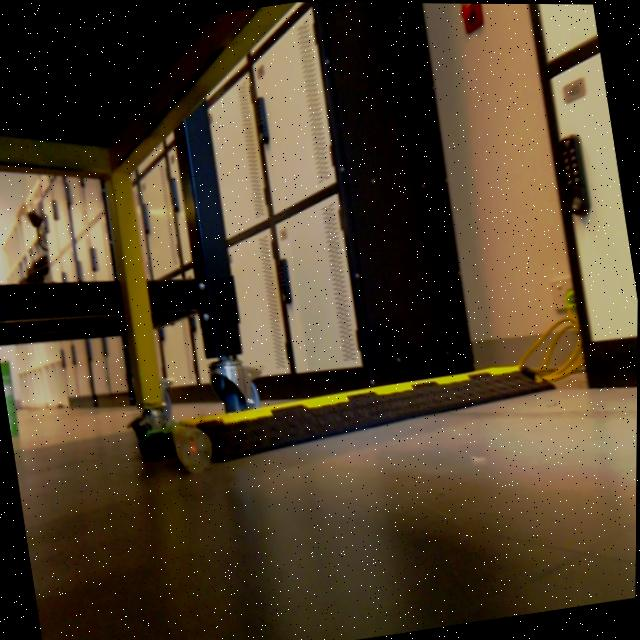greenpringles: (0, 340, 38, 461)
